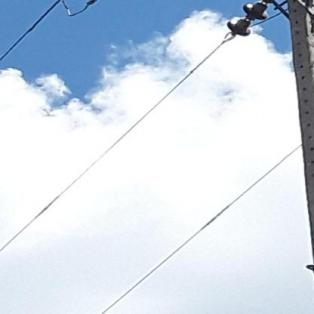Poste: (248, 0, 314, 313)
